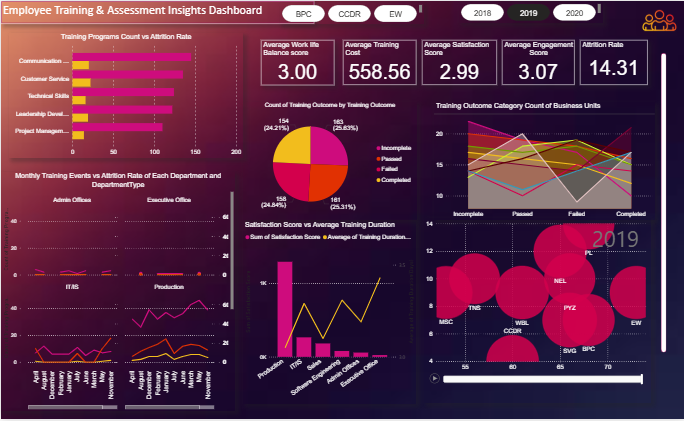

The page's visual inventory and layout, read from the dashboard file:
{"tool":"powerbi","page":{"name":"Employee Training and Assessment","canvas":[1800,1100],"ordinal":1},"visuals":[{"type":"shape","box":[0,0,823.8,59.5],"z":0},{"type":"card","title":"Average Satisfaction Score","fields":{"Values":["Avg(Messy_HR_Dataset_Detailed.Satisfaction Score)"]},"box":[1107.5,102.4,196.8,118.2],"z":0,"group":"g1"},{"type":"card","title":"Average Engagement Score","fields":{"Values":["Avg(Messy_HR_Dataset_Detailed.Engagement Score)"]},"box":[1318.7,102.4,191.1,118.2],"z":1000,"group":"g1"},{"type":"pieChart","fields":{"Category":["Messy_HR_Dataset_Detailed.Training Outcome"],"Y":["CountNonNull(Messy_HR_Dataset_Detailed.Training Outcome)"]},"box":[638.1,266.7,457.1,309.5],"z":1000},{"type":"card","title":"Average Training Cost","fields":{"Values":["Avg(Messy_HR_Dataset_Detailed.Training Cost)"]},"box":[900,102.4,193,118.2],"z":2000,"group":"g1"},{"type":"lineChart","title":" Monthly Training Events vs Attrition Rate of Each Department and DepartmentType","fields":{"Category":["Messy_HR_Dataset_Detailed.Month Name"],"Y":["CountNonNull(Messy_HR_Dataset_Detailed.Training Program Name)"],"Y2":["Measures (2).Total_Attribition","Measures (2).Attribition_Rate"],"Rows":["Messy_HR_Dataset_Detailed.DepartmentType"]},"box":[0,448.8,617.1,629.3],"z":2000},{"type":"card","title":"Attrition Rate","fields":{"Values":["Measures (2).Attribition_Rate"]},"box":[1524.3,102.4,177.8,118.2],"z":3000,"group":"g1"},{"type":"card","title":"Average Work life Balance score","fields":{"Values":["Avg(Messy_HR_Dataset_Detailed.Work-Life Balance Score)"]},"box":[683.3,102.4,192.9,119],"z":3000},{"type":"lineClusteredColumnComboChart","title":"Satisfaction Score vs Average Training Duration","fields":{"Category":["Messy_HR_Dataset_Detailed.DepartmentType"],"Y":["Sum(Messy_HR_Dataset_Detailed.Satisfaction Score)"],"Y2":["Avg(Messy_HR_Dataset_Detailed.Training Duration(Days))"]},"box":[637,577.8,455.6,481.5],"z":4000},{"type":"clusteredBarChart","title":" Training Programs Count vs Attrition Rate","fields":{"Category":["Messy_HR_Dataset_Detailed.Training Program Name"],"Y":["CountNonNull(Messy_HR_Dataset_Detailed.Training Program Name)","Measures (2).Total_Attribition"]},"box":[21.4,83.3,616.7,328.6],"z":5000},{"type":"shape","box":[1738.1,135.7,14.3,788.1],"z":6000},{"type":"group","id":"g1","title":"Group 1","box":[900,102.4,802.4,119],"z":7000},{"type":"textbox","box":[0,0,1042.5,57.5],"z":8000},{"type":"advancedSlicerVisual","fields":{"Values":["Messy_HR_Dataset_Detailed.Year"]},"box":[1204.8,2.4,378.6,54.8],"z":9000},{"type":"image","box":[1666.7,0,133.3,102.4],"z":10000},{"type":"scatterChart","fields":{"X":["Messy_HR_Dataset_Detailed.Training Program Name"],"Y":["Measures (2).Total_Attribition"],"Category":["Messy_HR_Dataset_Detailed.BusinessUnit"],"Size":["Avg(Messy_HR_Dataset_Detailed.Training Cost)"],"Play":["Messy_HR_Dataset_Detailed.Year"]},"box":[1114.3,571.4,597.6,488.1],"z":11000},{"type":"areaChart","title":" Training Outcome Category Count of Business Units","fields":{"Category":["Messy_HR_Dataset_Detailed.Training Outcome"],"Y":["CountNonNull(Messy_HR_Dataset_Detailed.Training Outcome)"],"Series":["Messy_HR_Dataset_Detailed.BusinessUnit"]},"box":[1140.5,266.7,581,309.5],"z":12000},{"type":"advancedSlicerVisual","fields":{"Values":["Messy_HR_Dataset_Detailed.BusinessUnit"]},"box":[734.9,4.7,379.1,55.8],"z":13000}]}

Visuals, with their boxes in screenshot pixels (x1, y1, x2, y2), scaled from the page's 1800x1100 canvas onto the 684x421 screenshot:
shape: 0, 0, 313, 23
"Average Satisfaction Score" card: 421, 39, 496, 84
"Average Engagement Score" card: 501, 39, 574, 84
pieChart - Messy_HR_Dataset_Detailed.Training Outcome x CountNonNull(Messy_HR_Dataset_Detailed.Training Outcome): 242, 102, 416, 221
"Average Training Cost" card: 342, 39, 415, 84
" Monthly Training Events vs Attrition Rate of Each Department and DepartmentType" lineChart: 0, 172, 234, 413
"Attrition Rate" card: 579, 39, 647, 84
"Average Work life Balance score" card: 260, 39, 333, 85
"Satisfaction Score vs Average Training Duration" lineClusteredColumnComboChart: 242, 221, 415, 405
" Training Programs Count vs Attrition Rate" clusteredBarChart: 8, 32, 242, 158
shape: 660, 52, 666, 354
"Group 1" group: 342, 39, 647, 85
textbox: 0, 0, 396, 22
advancedSlicerVisual - Messy_HR_Dataset_Detailed.Year: 458, 1, 602, 22
image: 633, 0, 683, 39
scatterChart - Messy_HR_Dataset_Detailed.Training Program Name x Measures (2).Total_Attribition: 423, 219, 651, 405
" Training Outcome Category Count of Business Units" areaChart: 433, 102, 654, 221
advancedSlicerVisual - Messy_HR_Dataset_Detailed.BusinessUnit: 279, 2, 423, 23
